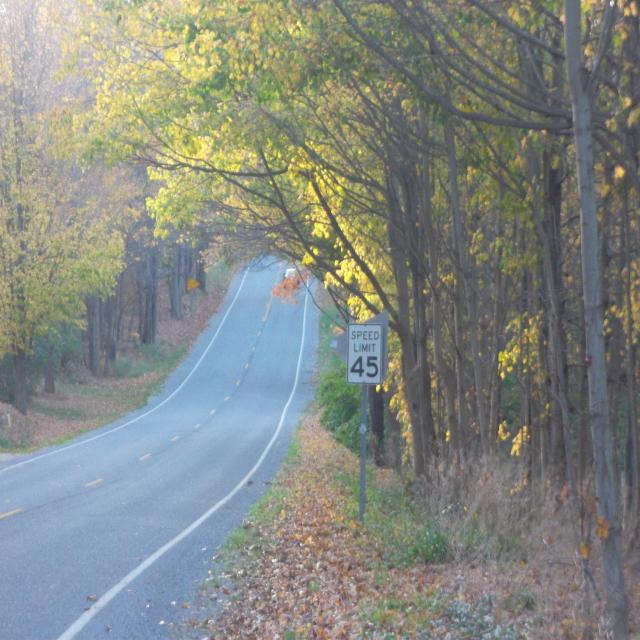regulatory: (346, 322, 383, 387)
